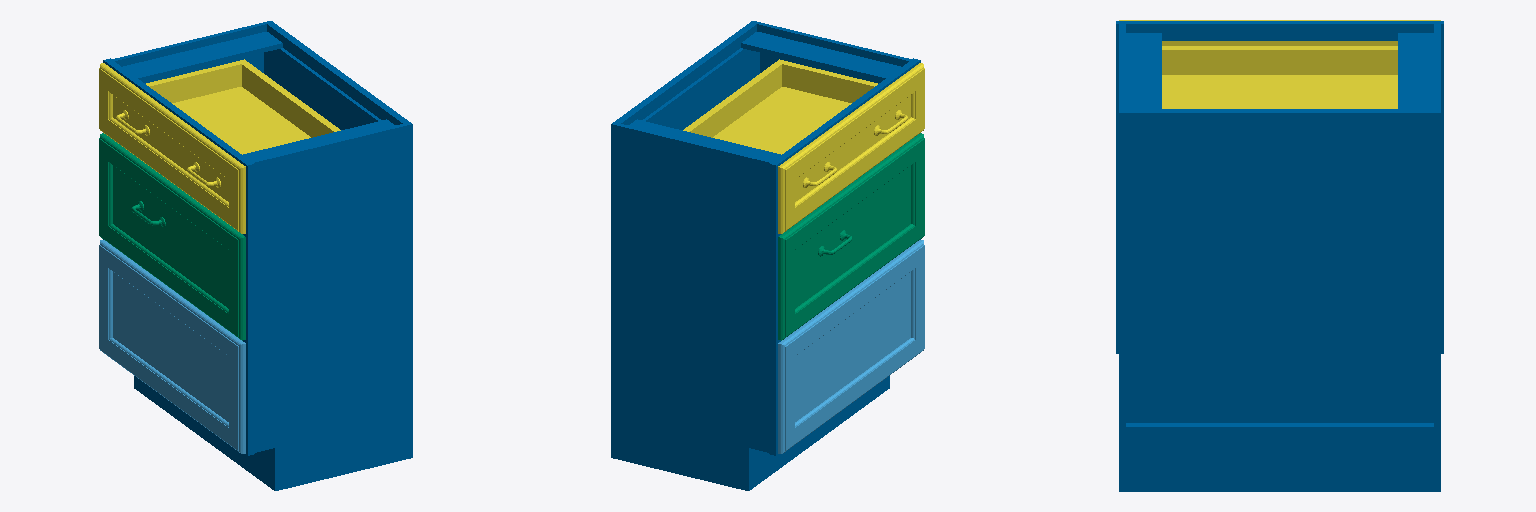
robot.urdf — partnet_59b0ac376af08592824662341ce2b233:
<?xml version="1.0" ?>
<robot name="partnet_59b0ac376af08592824662341ce2b233">
	<link name="base"/>
	<link name="link_0">
		<visual name="drawer_front-28">
			<origin xyz="0 0 0"/>
			<geometry>
				<mesh filename="textured_objs/original-44.obj"/>
			</geometry>
		</visual>
		<visual name="drawer_front-28">
			<origin xyz="0 0 0"/>
			<geometry>
				<mesh filename="textured_objs/original-26.obj"/>
			</geometry>
		</visual>
		<visual name="drawer_front-28">
			<origin xyz="0 0 0"/>
			<geometry>
				<mesh filename="textured_objs/original-40.obj"/>
			</geometry>
		</visual>
		<visual name="drawer_front-28">
			<origin xyz="0 0 0"/>
			<geometry>
				<mesh filename="textured_objs/original-35.obj"/>
			</geometry>
		</visual>
		<visual name="drawer_front-28">
			<origin xyz="0 0 0"/>
			<geometry>
				<mesh filename="textured_objs/original-38.obj"/>
			</geometry>
		</visual>
		<visual name="drawer_front-28">
			<origin xyz="0 0 0"/>
			<geometry>
				<mesh filename="textured_objs/original-39.obj"/>
			</geometry>
		</visual>
		<visual name="drawer_front-28">
			<origin xyz="0 0 0"/>
			<geometry>
				<mesh filename="textured_objs/original-34.obj"/>
			</geometry>
		</visual>
		<visual name="drawer_front-28">
			<origin xyz="0 0 0"/>
			<geometry>
				<mesh filename="textured_objs/original-36.obj"/>
			</geometry>
		</visual>
		<visual name="drawer_front-28">
			<origin xyz="0 0 0"/>
			<geometry>
				<mesh filename="textured_objs/original-41.obj"/>
			</geometry>
		</visual>
		<visual name="drawer_front-28">
			<origin xyz="0 0 0"/>
			<geometry>
				<mesh filename="textured_objs/original-37.obj"/>
			</geometry>
		</visual>
		<visual name="drawer_front-28">
			<origin xyz="0 0 0"/>
			<geometry>
				<mesh filename="textured_objs/original-43.obj"/>
			</geometry>
		</visual>
		<visual name="drawer_side-29">
			<origin xyz="0 0 0"/>
			<geometry>
				<mesh filename="textured_objs/original-30.obj"/>
			</geometry>
		</visual>
		<visual name="drawer_side-30">
			<origin xyz="0 0 0"/>
			<geometry>
				<mesh filename="textured_objs/original-25.obj"/>
			</geometry>
		</visual>
		<visual name="drawer_back-31">
			<origin xyz="0 0 0"/>
			<geometry>
				<mesh filename="textured_objs/original-31.obj"/>
			</geometry>
		</visual>
		<visual name="drawer_bottom-32">
			<origin xyz="0 0 0"/>
			<geometry>
				<mesh filename="textured_objs/original-29.obj"/>
			</geometry>
		</visual>
		<visual name="drawer_bottom-32">
			<origin xyz="0 0 0"/>
			<geometry>
				<mesh filename="textured_objs/original-28.obj"/>
			</geometry>
		</visual>
		<visual name="other_leaf-34">
			<origin xyz="0 0 0"/>
			<geometry>
				<mesh filename="textured_objs/original-32.obj"/>
			</geometry>
		</visual>
		<visual name="handle-27">
			<origin xyz="0 0 0"/>
			<geometry>
				<mesh filename="textured_objs/original-45.obj"/>
			</geometry>
		</visual>
		<collision>
			<origin xyz="0 0 0"/>
			<geometry>
				<mesh filename="textured_objs/original-44.obj"/>
			</geometry>
		</collision>
		<collision>
			<origin xyz="0 0 0"/>
			<geometry>
				<mesh filename="textured_objs/original-26.obj"/>
			</geometry>
		</collision>
		<collision>
			<origin xyz="0 0 0"/>
			<geometry>
				<mesh filename="textured_objs/original-40.obj"/>
			</geometry>
		</collision>
		<collision>
			<origin xyz="0 0 0"/>
			<geometry>
				<mesh filename="textured_objs/original-35.obj"/>
			</geometry>
		</collision>
		<collision>
			<origin xyz="0 0 0"/>
			<geometry>
				<mesh filename="textured_objs/original-38.obj"/>
			</geometry>
		</collision>
		<collision>
			<origin xyz="0 0 0"/>
			<geometry>
				<mesh filename="textured_objs/original-39.obj"/>
			</geometry>
		</collision>
		<collision>
			<origin xyz="0 0 0"/>
			<geometry>
				<mesh filename="textured_objs/original-34.obj"/>
			</geometry>
		</collision>
		<collision>
			<origin xyz="0 0 0"/>
			<geometry>
				<mesh filename="textured_objs/original-36.obj"/>
			</geometry>
		</collision>
		<collision>
			<origin xyz="0 0 0"/>
			<geometry>
				<mesh filename="textured_objs/original-41.obj"/>
			</geometry>
		</collision>
		<collision>
			<origin xyz="0 0 0"/>
			<geometry>
				<mesh filename="textured_objs/original-37.obj"/>
			</geometry>
		</collision>
		<collision>
			<origin xyz="0 0 0"/>
			<geometry>
				<mesh filename="textured_objs/original-43.obj"/>
			</geometry>
		</collision>
		<collision>
			<origin xyz="0 0 0"/>
			<geometry>
				<mesh filename="textured_objs/original-30.obj"/>
			</geometry>
		</collision>
		<collision>
			<origin xyz="0 0 0"/>
			<geometry>
				<mesh filename="textured_objs/original-25.obj"/>
			</geometry>
		</collision>
		<collision>
			<origin xyz="0 0 0"/>
			<geometry>
				<mesh filename="textured_objs/original-31.obj"/>
			</geometry>
		</collision>
		<collision>
			<origin xyz="0 0 0"/>
			<geometry>
				<mesh filename="textured_objs/original-29.obj"/>
			</geometry>
		</collision>
		<collision>
			<origin xyz="0 0 0"/>
			<geometry>
				<mesh filename="textured_objs/original-28.obj"/>
			</geometry>
		</collision>
		<collision>
			<origin xyz="0 0 0"/>
			<geometry>
				<mesh filename="textured_objs/original-32.obj"/>
			</geometry>
		</collision>
		<collision>
			<origin xyz="0 0 0"/>
			<geometry>
				<mesh filename="textured_objs/original-45.obj"/>
			</geometry>
		</collision>
	</link>
	<joint name="joint_0" type="prismatic">
		<origin xyz="0 0 0"/>
		<axis xyz="0 0 1"/>
		<child link="link_0"/>
		<parent link="link_3"/>
		<limit lower="0" upper="0.5"/>
	</joint>
	<link name="link_1">
		<visual name="drawer_front-19">
			<origin xyz="0 0 0"/>
			<geometry>
				<mesh filename="textured_objs/original-63.obj"/>
			</geometry>
		</visual>
		<visual name="drawer_front-19">
			<origin xyz="0 0 0"/>
			<geometry>
				<mesh filename="textured_objs/original-58.obj"/>
			</geometry>
		</visual>
		<visual name="drawer_front-19">
			<origin xyz="0 0 0"/>
			<geometry>
				<mesh filename="textured_objs/original-61.obj"/>
			</geometry>
		</visual>
		<visual name="drawer_front-19">
			<origin xyz="0 0 0"/>
			<geometry>
				<mesh filename="textured_objs/original-60.obj"/>
			</geometry>
		</visual>
		<visual name="drawer_front-19">
			<origin xyz="0 0 0"/>
			<geometry>
				<mesh filename="textured_objs/original-64.obj"/>
			</geometry>
		</visual>
		<visual name="drawer_front-19">
			<origin xyz="0 0 0"/>
			<geometry>
				<mesh filename="textured_objs/original-59.obj"/>
			</geometry>
		</visual>
		<visual name="drawer_front-19">
			<origin xyz="0 0 0"/>
			<geometry>
				<mesh filename="textured_objs/original-62.obj"/>
			</geometry>
		</visual>
		<visual name="drawer_front-19">
			<origin xyz="0 0 0"/>
			<geometry>
				<mesh filename="textured_objs/original-57.obj"/>
			</geometry>
		</visual>
		<visual name="drawer_front-19">
			<origin xyz="0 0 0"/>
			<geometry>
				<mesh filename="textured_objs/original-67.obj"/>
			</geometry>
		</visual>
		<visual name="drawer_front-19">
			<origin xyz="0 0 0"/>
			<geometry>
				<mesh filename="textured_objs/original-49.obj"/>
			</geometry>
		</visual>
		<visual name="drawer_front-19">
			<origin xyz="0 0 0"/>
			<geometry>
				<mesh filename="textured_objs/original-66.obj"/>
			</geometry>
		</visual>
		<visual name="drawer_side-20">
			<origin xyz="0 0 0"/>
			<geometry>
				<mesh filename="textured_objs/original-53.obj"/>
			</geometry>
		</visual>
		<visual name="drawer_side-21">
			<origin xyz="0 0 0"/>
			<geometry>
				<mesh filename="textured_objs/original-48.obj"/>
			</geometry>
		</visual>
		<visual name="drawer_back-22">
			<origin xyz="0 0 0"/>
			<geometry>
				<mesh filename="textured_objs/original-54.obj"/>
			</geometry>
		</visual>
		<visual name="drawer_bottom-23">
			<origin xyz="0 0 0"/>
			<geometry>
				<mesh filename="textured_objs/original-51.obj"/>
			</geometry>
		</visual>
		<visual name="drawer_bottom-23">
			<origin xyz="0 0 0"/>
			<geometry>
				<mesh filename="textured_objs/original-52.obj"/>
			</geometry>
		</visual>
		<visual name="other_leaf-25">
			<origin xyz="0 0 0"/>
			<geometry>
				<mesh filename="textured_objs/original-55.obj"/>
			</geometry>
		</visual>
		<visual name="handle-18">
			<origin xyz="0 0 0"/>
			<geometry>
				<mesh filename="textured_objs/original-68.obj"/>
			</geometry>
		</visual>
		<collision>
			<origin xyz="0 0 0"/>
			<geometry>
				<mesh filename="textured_objs/original-63.obj"/>
			</geometry>
		</collision>
		<collision>
			<origin xyz="0 0 0"/>
			<geometry>
				<mesh filename="textured_objs/original-58.obj"/>
			</geometry>
		</collision>
		<collision>
			<origin xyz="0 0 0"/>
			<geometry>
				<mesh filename="textured_objs/original-61.obj"/>
			</geometry>
		</collision>
		<collision>
			<origin xyz="0 0 0"/>
			<geometry>
				<mesh filename="textured_objs/original-60.obj"/>
			</geometry>
		</collision>
		<collision>
			<origin xyz="0 0 0"/>
			<geometry>
				<mesh filename="textured_objs/original-64.obj"/>
			</geometry>
		</collision>
		<collision>
			<origin xyz="0 0 0"/>
			<geometry>
				<mesh filename="textured_objs/original-59.obj"/>
			</geometry>
		</collision>
		<collision>
			<origin xyz="0 0 0"/>
			<geometry>
				<mesh filename="textured_objs/original-62.obj"/>
			</geometry>
		</collision>
		<collision>
			<origin xyz="0 0 0"/>
			<geometry>
				<mesh filename="textured_objs/original-57.obj"/>
			</geometry>
		</collision>
		<collision>
			<origin xyz="0 0 0"/>
			<geometry>
				<mesh filename="textured_objs/original-67.obj"/>
			</geometry>
		</collision>
		<collision>
			<origin xyz="0 0 0"/>
			<geometry>
				<mesh filename="textured_objs/original-49.obj"/>
			</geometry>
		</collision>
		<collision>
			<origin xyz="0 0 0"/>
			<geometry>
				<mesh filename="textured_objs/original-66.obj"/>
			</geometry>
		</collision>
		<collision>
			<origin xyz="0 0 0"/>
			<geometry>
				<mesh filename="textured_objs/original-53.obj"/>
			</geometry>
		</collision>
		<collision>
			<origin xyz="0 0 0"/>
			<geometry>
				<mesh filename="textured_objs/original-48.obj"/>
			</geometry>
		</collision>
		<collision>
			<origin xyz="0 0 0"/>
			<geometry>
				<mesh filename="textured_objs/original-54.obj"/>
			</geometry>
		</collision>
		<collision>
			<origin xyz="0 0 0"/>
			<geometry>
				<mesh filename="textured_objs/original-51.obj"/>
			</geometry>
		</collision>
		<collision>
			<origin xyz="0 0 0"/>
			<geometry>
				<mesh filename="textured_objs/original-52.obj"/>
			</geometry>
		</collision>
		<collision>
			<origin xyz="0 0 0"/>
			<geometry>
				<mesh filename="textured_objs/original-55.obj"/>
			</geometry>
		</collision>
		<collision>
			<origin xyz="0 0 0"/>
			<geometry>
				<mesh filename="textured_objs/original-68.obj"/>
			</geometry>
		</collision>
	</link>
	<joint name="joint_1" type="prismatic">
		<origin xyz="0 0 0"/>
		<axis xyz="0 0 1"/>
		<child link="link_1"/>
		<parent link="link_3"/>
		<limit lower="0" upper="0.5"/>
	</joint>
	<link name="link_2">
		<visual name="drawer_front-10">
			<origin xyz="0 0 0"/>
			<geometry>
				<mesh filename="textured_objs/original-86.obj"/>
			</geometry>
		</visual>
		<visual name="drawer_front-10">
			<origin xyz="0 0 0"/>
			<geometry>
				<mesh filename="textured_objs/original-90.obj"/>
			</geometry>
		</visual>
		<visual name="drawer_front-10">
			<origin xyz="0 0 0"/>
			<geometry>
				<mesh filename="textured_objs/original-81.obj"/>
			</geometry>
		</visual>
		<visual name="drawer_front-10">
			<origin xyz="0 0 0"/>
			<geometry>
				<mesh filename="textured_objs/original-87.obj"/>
			</geometry>
		</visual>
		<visual name="drawer_front-10">
			<origin xyz="0 0 0"/>
			<geometry>
				<mesh filename="textured_objs/original-84.obj"/>
			</geometry>
		</visual>
		<visual name="drawer_front-10">
			<origin xyz="0 0 0"/>
			<geometry>
				<mesh filename="textured_objs/original-83.obj"/>
			</geometry>
		</visual>
		<visual name="drawer_front-10">
			<origin xyz="0 0 0"/>
			<geometry>
				<mesh filename="textured_objs/original-85.obj"/>
			</geometry>
		</visual>
		<visual name="drawer_front-10">
			<origin xyz="0 0 0"/>
			<geometry>
				<mesh filename="textured_objs/original-80.obj"/>
			</geometry>
		</visual>
		<visual name="drawer_front-10">
			<origin xyz="0 0 0"/>
			<geometry>
				<mesh filename="textured_objs/original-82.obj"/>
			</geometry>
		</visual>
		<visual name="drawer_front-10">
			<origin xyz="0 0 0"/>
			<geometry>
				<mesh filename="textured_objs/original-72.obj"/>
			</geometry>
		</visual>
		<visual name="drawer_front-10">
			<origin xyz="0 0 0"/>
			<geometry>
				<mesh filename="textured_objs/original-89.obj"/>
			</geometry>
		</visual>
		<visual name="drawer_side-11">
			<origin xyz="0 0 0"/>
			<geometry>
				<mesh filename="textured_objs/original-71.obj"/>
			</geometry>
		</visual>
		<visual name="drawer_side-12">
			<origin xyz="0 0 0"/>
			<geometry>
				<mesh filename="textured_objs/original-76.obj"/>
			</geometry>
		</visual>
		<visual name="drawer_back-13">
			<origin xyz="0 0 0"/>
			<geometry>
				<mesh filename="textured_objs/original-77.obj"/>
			</geometry>
		</visual>
		<visual name="drawer_bottom-14">
			<origin xyz="0 0 0"/>
			<geometry>
				<mesh filename="textured_objs/original-75.obj"/>
			</geometry>
		</visual>
		<visual name="drawer_bottom-14">
			<origin xyz="0 0 0"/>
			<geometry>
				<mesh filename="textured_objs/original-74.obj"/>
			</geometry>
		</visual>
		<visual name="other_leaf-16">
			<origin xyz="0 0 0"/>
			<geometry>
				<mesh filename="textured_objs/original-78.obj"/>
			</geometry>
		</visual>
		<visual name="handle-8">
			<origin xyz="0 0 0"/>
			<geometry>
				<mesh filename="textured_objs/original-92.obj"/>
			</geometry>
		</visual>
		<visual name="handle-9">
			<origin xyz="0 0 0"/>
			<geometry>
				<mesh filename="textured_objs/original-91.obj"/>
			</geometry>
		</visual>
		<collision>
			<origin xyz="0 0 0"/>
			<geometry>
				<mesh filename="textured_objs/original-86.obj"/>
			</geometry>
		</collision>
		<collision>
			<origin xyz="0 0 0"/>
			<geometry>
				<mesh filename="textured_objs/original-90.obj"/>
			</geometry>
		</collision>
		<collision>
			<origin xyz="0 0 0"/>
			<geometry>
				<mesh filename="textured_objs/original-81.obj"/>
			</geometry>
		</collision>
		<collision>
			<origin xyz="0 0 0"/>
			<geometry>
				<mesh filename="textured_objs/original-87.obj"/>
			</geometry>
		</collision>
		<collision>
			<origin xyz="0 0 0"/>
			<geometry>
				<mesh filename="textured_objs/original-84.obj"/>
			</geometry>
		</collision>
		<collision>
			<origin xyz="0 0 0"/>
			<geometry>
				<mesh filename="textured_objs/original-83.obj"/>
			</geometry>
		</collision>
		<collision>
			<origin xyz="0 0 0"/>
			<geometry>
				<mesh filename="textured_objs/original-85.obj"/>
			</geometry>
		</collision>
		<collision>
			<origin xyz="0 0 0"/>
			<geometry>
				<mesh filename="textured_objs/original-80.obj"/>
			</geometry>
		</collision>
		<collision>
			<origin xyz="0 0 0"/>
			<geometry>
				<mesh filename="textured_objs/original-82.obj"/>
			</geometry>
		</collision>
		<collision>
			<origin xyz="0 0 0"/>
			<geometry>
				<mesh filename="textured_objs/original-72.obj"/>
			</geometry>
		</collision>
		<collision>
			<origin xyz="0 0 0"/>
			<geometry>
				<mesh filename="textured_objs/original-89.obj"/>
			</geometry>
		</collision>
		<collision>
			<origin xyz="0 0 0"/>
			<geometry>
				<mesh filename="textured_objs/original-71.obj"/>
			</geometry>
		</collision>
		<collision>
			<origin xyz="0 0 0"/>
			<geometry>
				<mesh filename="textured_objs/original-76.obj"/>
			</geometry>
		</collision>
		<collision>
			<origin xyz="0 0 0"/>
			<geometry>
				<mesh filename="textured_objs/original-77.obj"/>
			</geometry>
		</collision>
		<collision>
			<origin xyz="0 0 0"/>
			<geometry>
				<mesh filename="textured_objs/original-75.obj"/>
			</geometry>
		</collision>
		<collision>
			<origin xyz="0 0 0"/>
			<geometry>
				<mesh filename="textured_objs/original-74.obj"/>
			</geometry>
		</collision>
		<collision>
			<origin xyz="0 0 0"/>
			<geometry>
				<mesh filename="textured_objs/original-78.obj"/>
			</geometry>
		</collision>
		<collision>
			<origin xyz="0 0 0"/>
			<geometry>
				<mesh filename="textured_objs/original-92.obj"/>
			</geometry>
		</collision>
		<collision>
			<origin xyz="0 0 0"/>
			<geometry>
				<mesh filename="textured_objs/original-91.obj"/>
			</geometry>
		</collision>
	</link>
	<joint name="joint_2" type="prismatic">
		<origin xyz="0 0 0"/>
		<axis xyz="0 0 1"/>
		<child link="link_2"/>
		<parent link="link_3"/>
		<limit lower="0" upper="0.5"/>
	</joint>
	<link name="link_3">
		<visual name="vertical_side_panel-40">
			<origin xyz="0 0 0"/>
			<geometry>
				<mesh filename="textured_objs/original-11.obj"/>
			</geometry>
		</visual>
		<visual name="vertical_side_panel-40">
			<origin xyz="0 0 0"/>
			<geometry>
				<mesh filename="textured_objs/original-10.obj"/>
			</geometry>
		</visual>
		<visual name="vertical_side_panel-41">
			<origin xyz="0 0 0"/>
			<geometry>
				<mesh filename="textured_objs/original-15.obj"/>
			</geometry>
		</visual>
		<visual name="vertical_side_panel-41">
			<origin xyz="0 0 0"/>
			<geometry>
				<mesh filename="textured_objs/original-14.obj"/>
			</geometry>
		</visual>
		<visual name="back_panel-42">
			<origin xyz="0 0 0"/>
			<geometry>
				<mesh filename="textured_objs/original-5.obj"/>
			</geometry>
		</visual>
		<visual name="bottom_panel-43">
			<origin xyz="0 0 0"/>
			<geometry>
				<mesh filename="textured_objs/original-2.obj"/>
			</geometry>
		</visual>
		<visual name="frame_vertical_bar-44">
			<origin xyz="0 0 0"/>
			<geometry>
				<mesh filename="textured_objs/original-3.obj"/>
			</geometry>
		</visual>
		<visual name="frame_vertical_bar-45">
			<origin xyz="0 0 0"/>
			<geometry>
				<mesh filename="textured_objs/original-7.obj"/>
			</geometry>
		</visual>
		<visual name="frame_horizontal_bar-46">
			<origin xyz="0 0 0"/>
			<geometry>
				<mesh filename="textured_objs/original-4.obj"/>
			</geometry>
		</visual>
		<visual name="frame_horizontal_bar-47">
			<origin xyz="0 0 0"/>
			<geometry>
				<mesh filename="textured_objs/original-21.obj"/>
			</geometry>
		</visual>
		<visual name="frame_horizontal_bar-48">
			<origin xyz="0 0 0"/>
			<geometry>
				<mesh filename="textured_objs/original-20.obj"/>
			</geometry>
		</visual>
		<visual name="frame_horizontal_bar-49">
			<origin xyz="0 0 0"/>
			<geometry>
				<mesh filename="textured_objs/original-8.obj"/>
			</geometry>
		</visual>
		<visual name="frame_horizontal_bar-50">
			<origin xyz="0 0 0"/>
			<geometry>
				<mesh filename="textured_objs/original-22.obj"/>
			</geometry>
		</visual>
		<visual name="frame_horizontal_bar-51">
			<origin xyz="0 0 0"/>
			<geometry>
				<mesh filename="textured_objs/original-17.obj"/>
			</geometry>
		</visual>
		<visual name="frame_horizontal_bar-52">
			<origin xyz="0 0 0"/>
			<geometry>
				<mesh filename="textured_objs/original-6.obj"/>
			</geometry>
		</visual>
		<visual name="other_leaf-54">
			<origin xyz="0 0 0"/>
			<geometry>
				<mesh filename="textured_objs/original-93.obj"/>
			</geometry>
		</visual>
		<visual name="base_side_panel-36">
			<origin xyz="0 0 0"/>
			<geometry>
				<mesh filename="textured_objs/original-12.obj"/>
			</geometry>
		</visual>
		<visual name="base_side_panel-37">
			<origin xyz="0 0 0"/>
			<geometry>
				<mesh filename="textured_objs/original-18.obj"/>
			</geometry>
		</visual>
		<visual name="base_side_panel-38">
			<origin xyz="0 0 0"/>
			<geometry>
				<mesh filename="textured_objs/original-16.obj"/>
			</geometry>
		</visual>
		<visual name="base_side_panel-39">
			<origin xyz="0 0 0"/>
			<geometry>
				<mesh filename="textured_objs/original-19.obj"/>
			</geometry>
		</visual>
		<collision>
			<origin xyz="0 0 0"/>
			<geometry>
				<mesh filename="textured_objs/original-11.obj"/>
			</geometry>
		</collision>
		<collision>
			<origin xyz="0 0 0"/>
			<geometry>
				<mesh filename="textured_objs/original-10.obj"/>
			</geometry>
		</collision>
		<collision>
			<origin xyz="0 0 0"/>
			<geometry>
				<mesh filename="textured_objs/original-15.obj"/>
			</geometry>
		</collision>
		<collision>
			<origin xyz="0 0 0"/>
			<geometry>
				<mesh filename="textured_objs/original-14.obj"/>
			</geometry>
		</collision>
		<collision>
			<origin xyz="0 0 0"/>
			<geometry>
				<mesh filename="textured_objs/original-5.obj"/>
			</geometry>
		</collision>
		<collision>
			<origin xyz="0 0 0"/>
			<geometry>
				<mesh filename="textured_objs/original-2.obj"/>
			</geometry>
		</collision>
		<collision>
			<origin xyz="0 0 0"/>
			<geometry>
				<mesh filename="textured_objs/original-3.obj"/>
			</geometry>
		</collision>
		<collision>
			<origin xyz="0 0 0"/>
			<geometry>
				<mesh filename="textured_objs/original-7.obj"/>
			</geometry>
		</collision>
		<collision>
			<origin xyz="0 0 0"/>
			<geometry>
				<mesh filename="textured_objs/original-4.obj"/>
			</geometry>
		</collision>
		<collision>
			<origin xyz="0 0 0"/>
			<geometry>
				<mesh filename="textured_objs/original-21.obj"/>
			</geometry>
		</collision>
		<collision>
			<origin xyz="0 0 0"/>
			<geometry>
				<mesh filename="textured_objs/original-20.obj"/>
			</geometry>
		</collision>
		<collision>
			<origin xyz="0 0 0"/>
			<geometry>
				<mesh filename="textured_objs/original-8.obj"/>
			</geometry>
		</collision>
		<collision>
			<origin xyz="0 0 0"/>
			<geometry>
				<mesh filename="textured_objs/original-22.obj"/>
			</geometry>
		</collision>
		<collision>
			<origin xyz="0 0 0"/>
			<geometry>
				<mesh filename="textured_objs/original-17.obj"/>
			</geometry>
		</collision>
		<collision>
			<origin xyz="0 0 0"/>
			<geometry>
				<mesh filename="textured_objs/original-6.obj"/>
			</geometry>
		</collision>
		<collision>
			<origin xyz="0 0 0"/>
			<geometry>
				<mesh filename="textured_objs/original-93.obj"/>
			</geometry>
		</collision>
		<collision>
			<origin xyz="0 0 0"/>
			<geometry>
				<mesh filename="textured_objs/original-12.obj"/>
			</geometry>
		</collision>
		<collision>
			<origin xyz="0 0 0"/>
			<geometry>
				<mesh filename="textured_objs/original-18.obj"/>
			</geometry>
		</collision>
		<collision>
			<origin xyz="0 0 0"/>
			<geometry>
				<mesh filename="textured_objs/original-16.obj"/>
			</geometry>
		</collision>
		<collision>
			<origin xyz="0 0 0"/>
			<geometry>
				<mesh filename="textured_objs/original-19.obj"/>
			</geometry>
		</collision>
	</link>
	<joint name="joint_3" type="fixed">
		<origin rpy="1.570796326794897 0 -1.570796326794897" xyz="0 0 0"/>
		<child link="link_3"/>
		<parent link="base"/>
	</joint>
</robot>

--- What the picture shows (computed from the rendered views, not written in the file) ---
The picture shows the robot from 3 angles, left to right: view 1: azimuth 30°, elevation 25°; view 2: azimuth 150°, elevation 25°; view 3: azimuth 270°, elevation 25°; orthographic projection.
Model partnet_59b0ac376af08592824662341ce2b233 with 5 links and 4 joints (3 prismatic, 1 fixed), rooted at base, posed every joint at zero.
Links seen in each view (by area): view 1: link_3, link_2, link_0, link_1; view 2: link_3, link_2, link_0, link_1; view 3: link_3, link_2.
Link boxes in pixels (x1,y1,x2,y2): link_3: [103, 21, 412, 490]; link_2: [99, 59, 340, 233]; link_0: [99, 240, 245, 453]; link_1: [99, 133, 245, 340]; link_3: [611, 21, 920, 490]; link_2: [683, 59, 924, 233]; link_0: [778, 240, 924, 453]; link_1: [778, 133, 924, 340]; link_3: [1116, 21, 1443, 491]; link_2: [1119, 20, 1440, 108].
Bounding box of the posed robot: 0.8571 × 1.18 × 1.51 m (x, y, z).
Meshes: 75 distinct files referenced, 74 mesh visuals loaded (74 OBJ); not drawn: 1 (reference not matched to a file when rendering).
